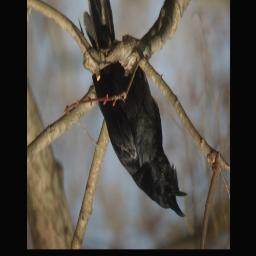Crow: (82, 0, 190, 223)
